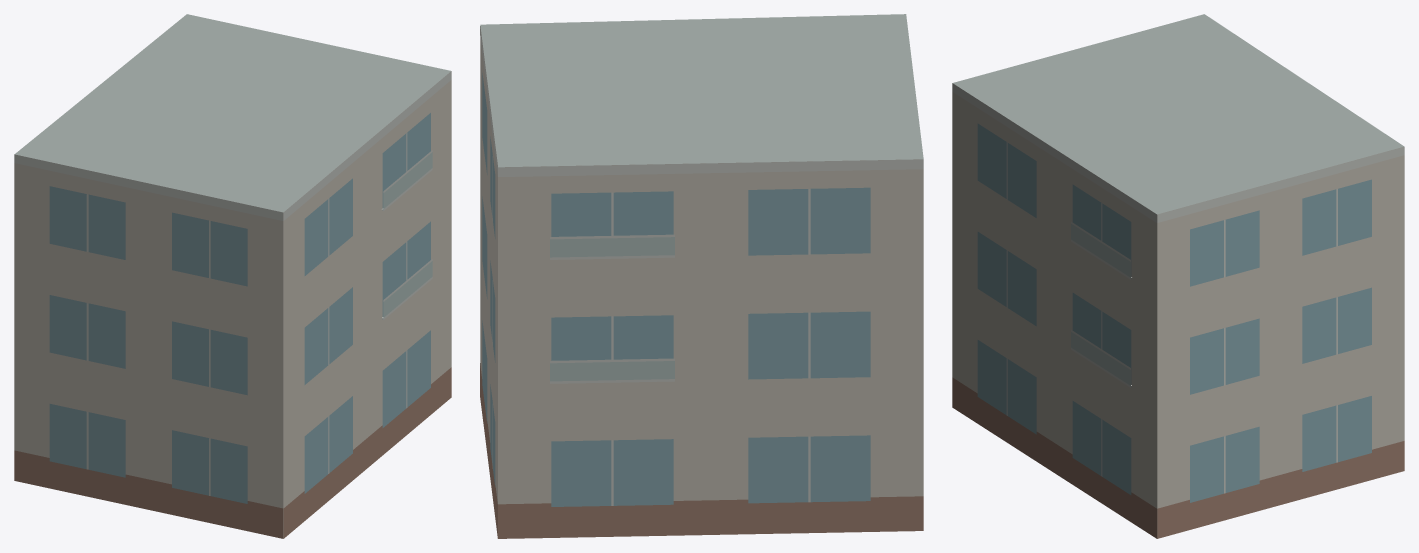
The model's file is survey-upis-32906056.glb.
3 renders of one model, left to right at view 1: azimuth 30°, elevation 25°; view 2: azimuth 150°, elevation 25°; view 3: azimuth 270°, elevation 25°, orthographic. The views are drawn at different scales.
Parts seen in each view (by area): view 1: survey-upis-32906056.tmp; view 2: survey-upis-32906056.tmp; view 3: survey-upis-32906056.tmp.
Part boxes in pixels (left/top/right/bottom): survey-upis-32906056.tmp: left=14, top=14, right=451, bottom=538; survey-upis-32906056.tmp: left=480, top=14, right=923, bottom=538; survey-upis-32906056.tmp: left=952, top=14, right=1404, bottom=538.
Bounding box in the file's own units: 12.14 × 9.15 × 11.57.
